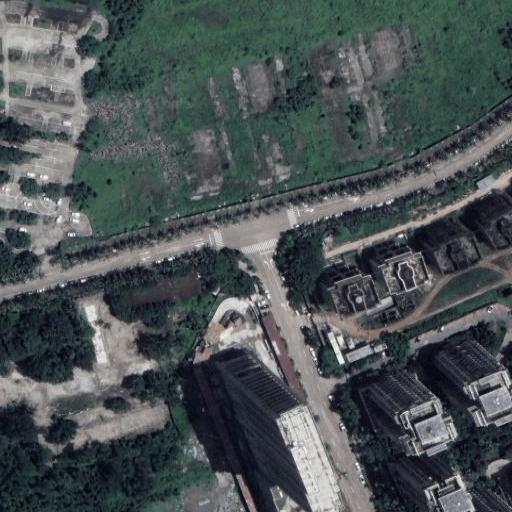building: (260, 313, 350, 512), (219, 351, 290, 469), (432, 336, 497, 397), (256, 457, 323, 512), (117, 263, 200, 306), (363, 367, 423, 425), (395, 450, 450, 502), (363, 240, 418, 287), (313, 264, 367, 309), (420, 219, 474, 264), (73, 297, 107, 363), (471, 193, 512, 240), (450, 490, 503, 512), (469, 164, 498, 190), (327, 331, 344, 365), (346, 345, 372, 363), (346, 337, 356, 352), (374, 342, 386, 352), (337, 334, 344, 344)
